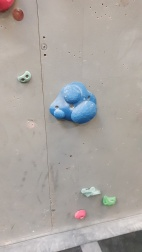Sloper: (48, 81, 99, 124)
